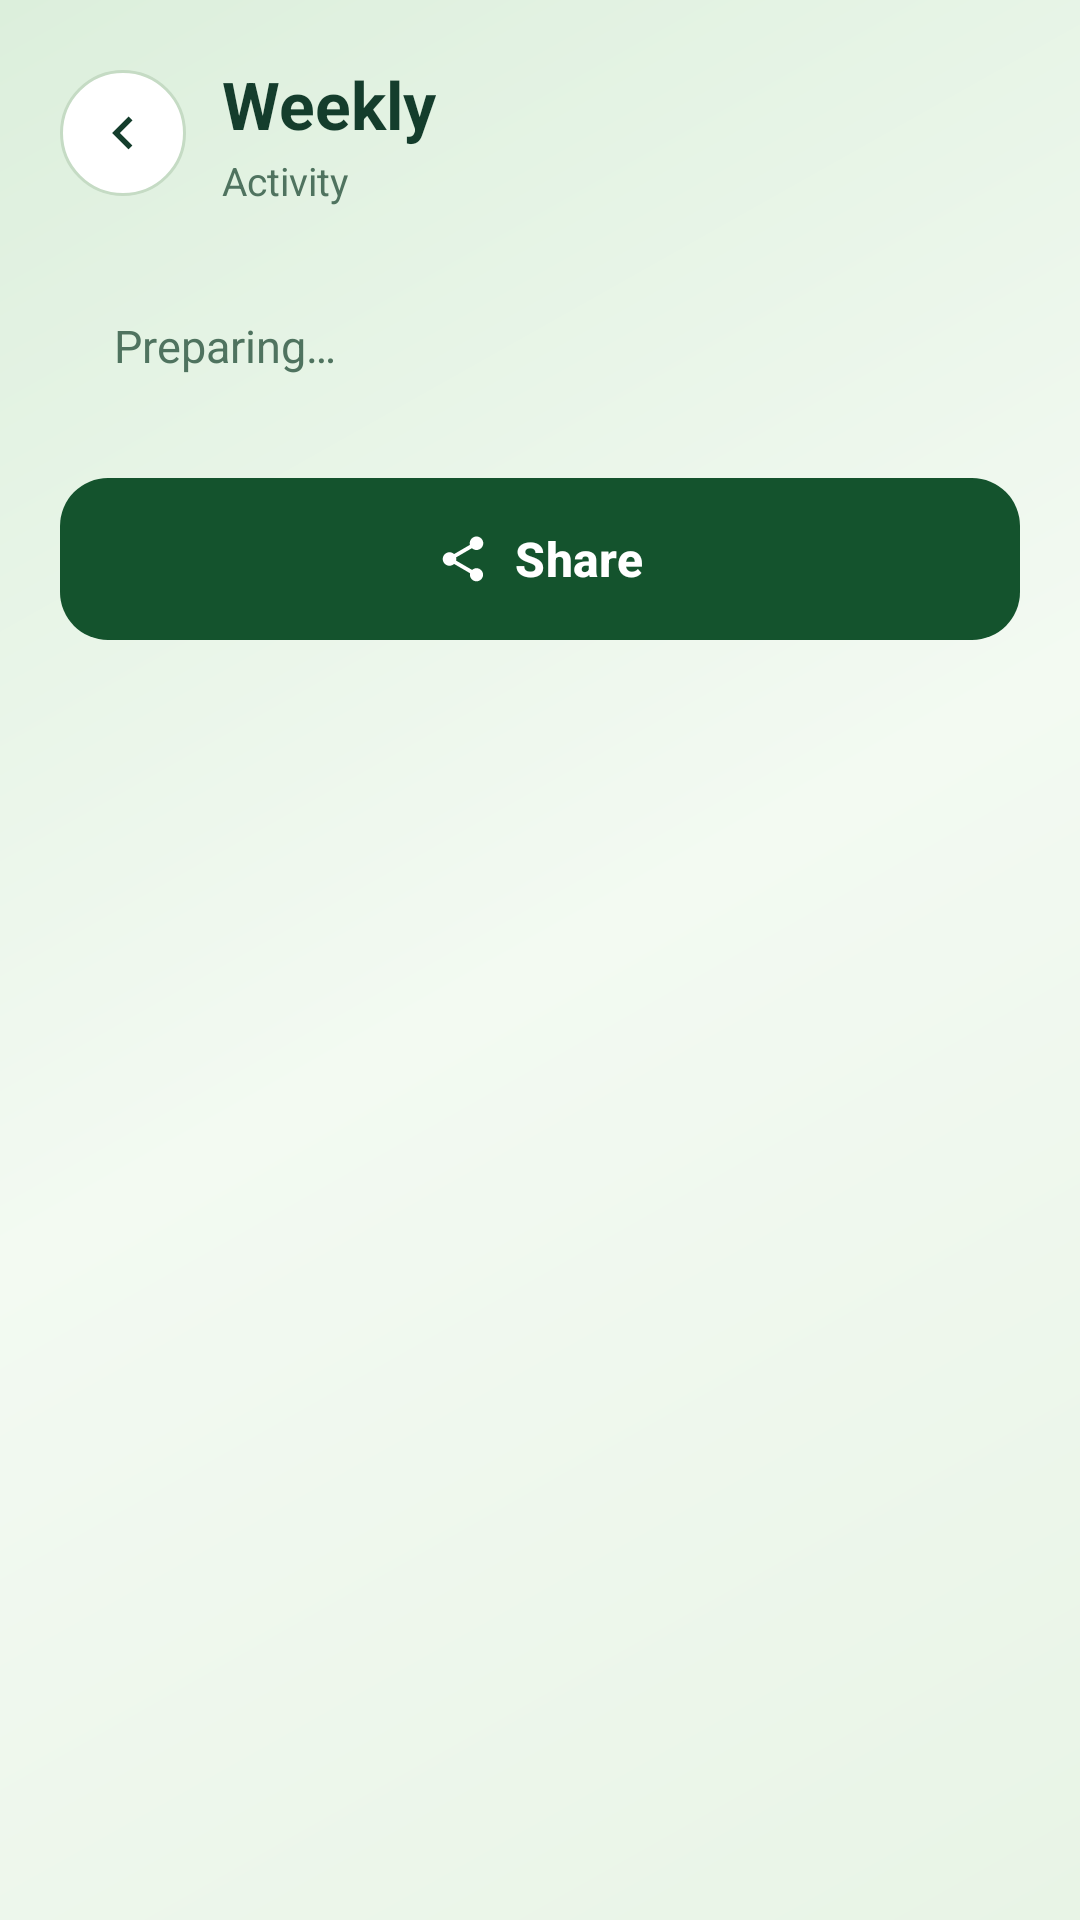

Icon click points for this 1080×1920 phone screenshot, format (x=x, y=y):
back: (x=123, y=133)
